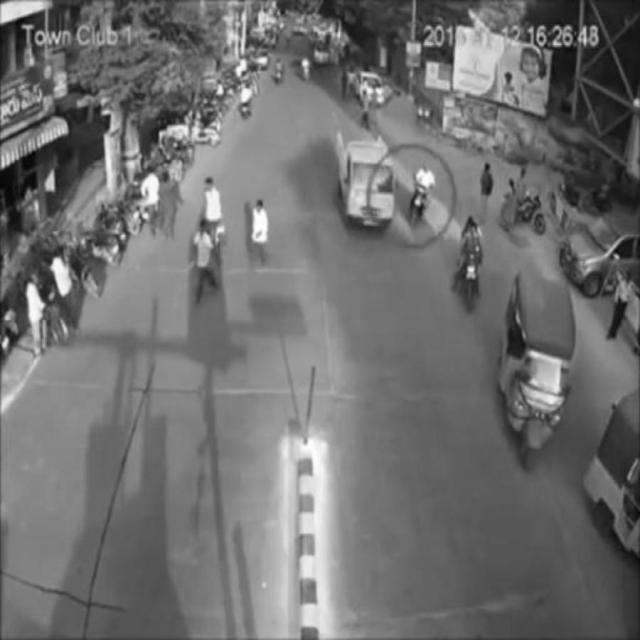person: (191, 220, 221, 308), (198, 176, 228, 264), (250, 196, 272, 270)
vehicle: (503, 272, 575, 470), (564, 214, 640, 296), (334, 137, 401, 230), (452, 216, 486, 312), (410, 164, 437, 226)
